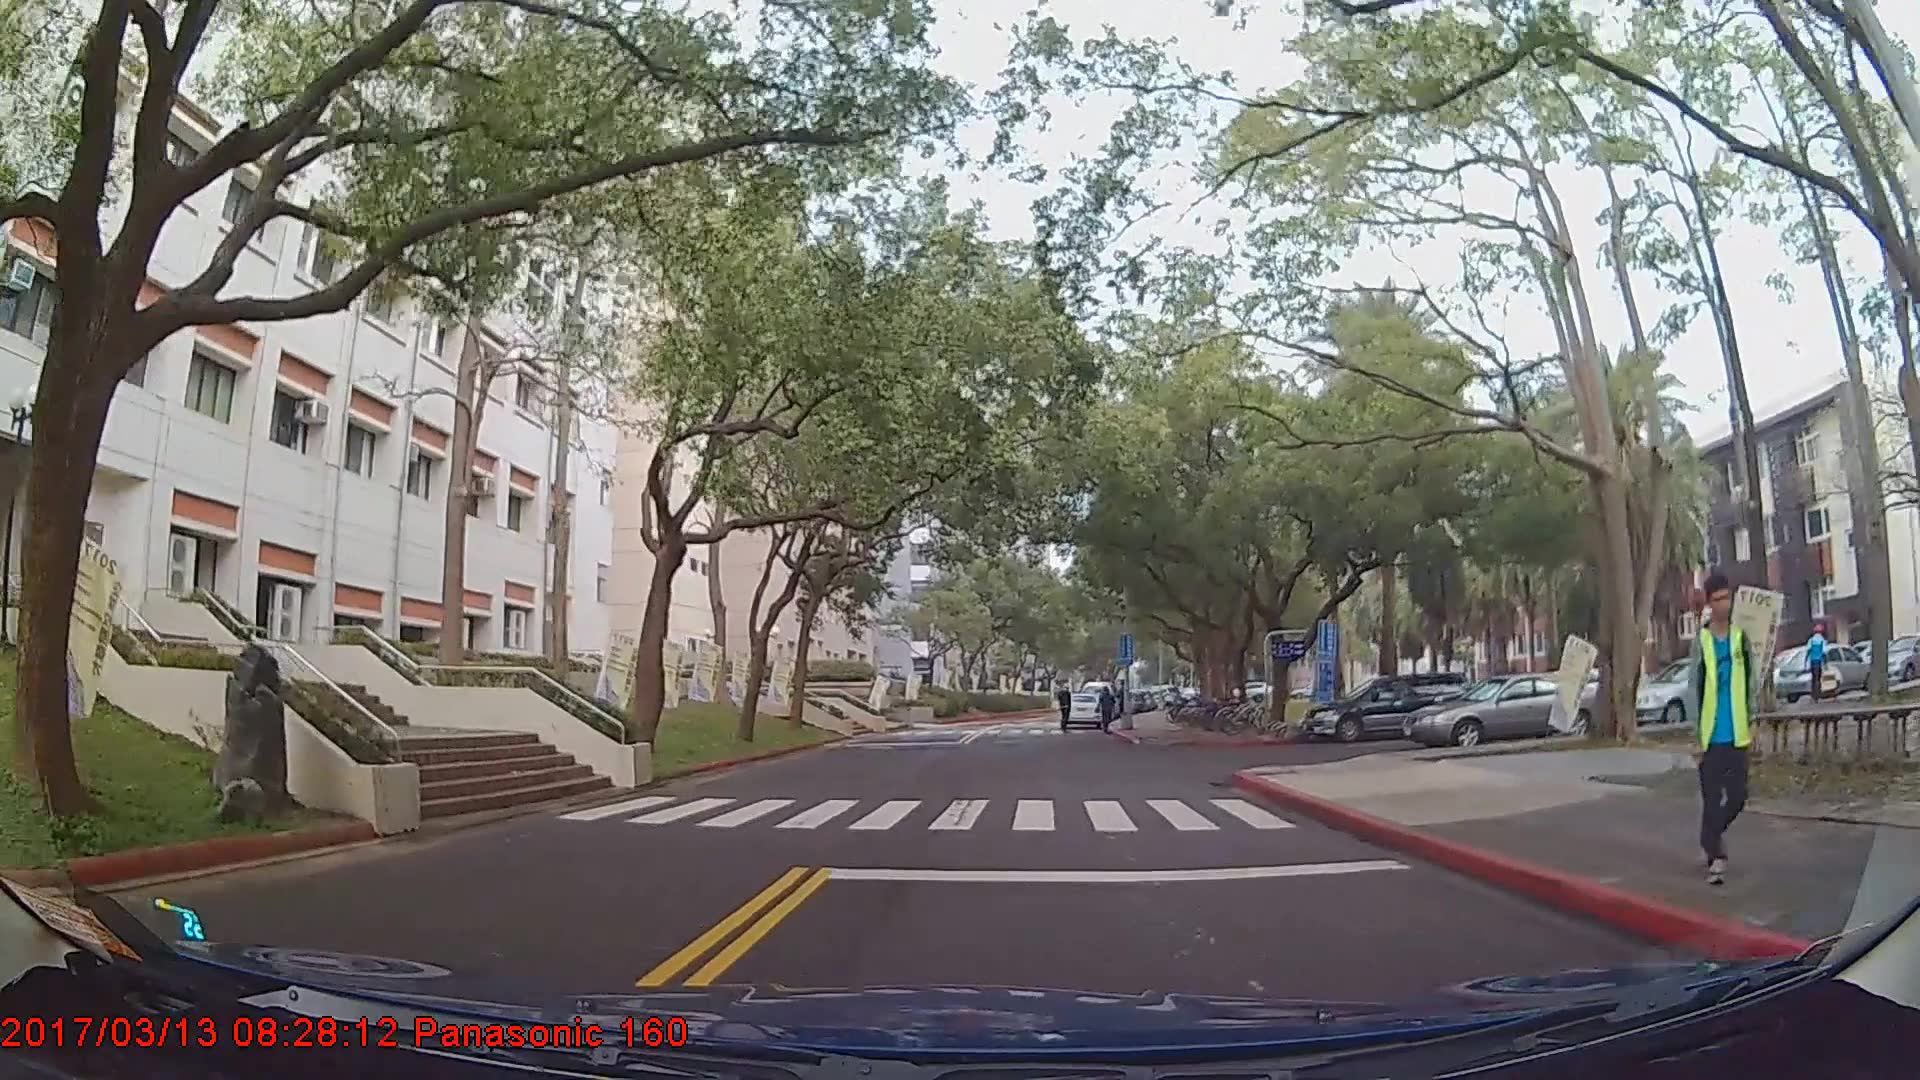pedestrian: (1682, 569, 1762, 883), (1798, 615, 1832, 707), (1055, 684, 1075, 735), (1098, 686, 1118, 735)
vehicle: (1403, 670, 1610, 747), (1302, 669, 1471, 739), (1779, 640, 1872, 697), (1058, 690, 1104, 728)
